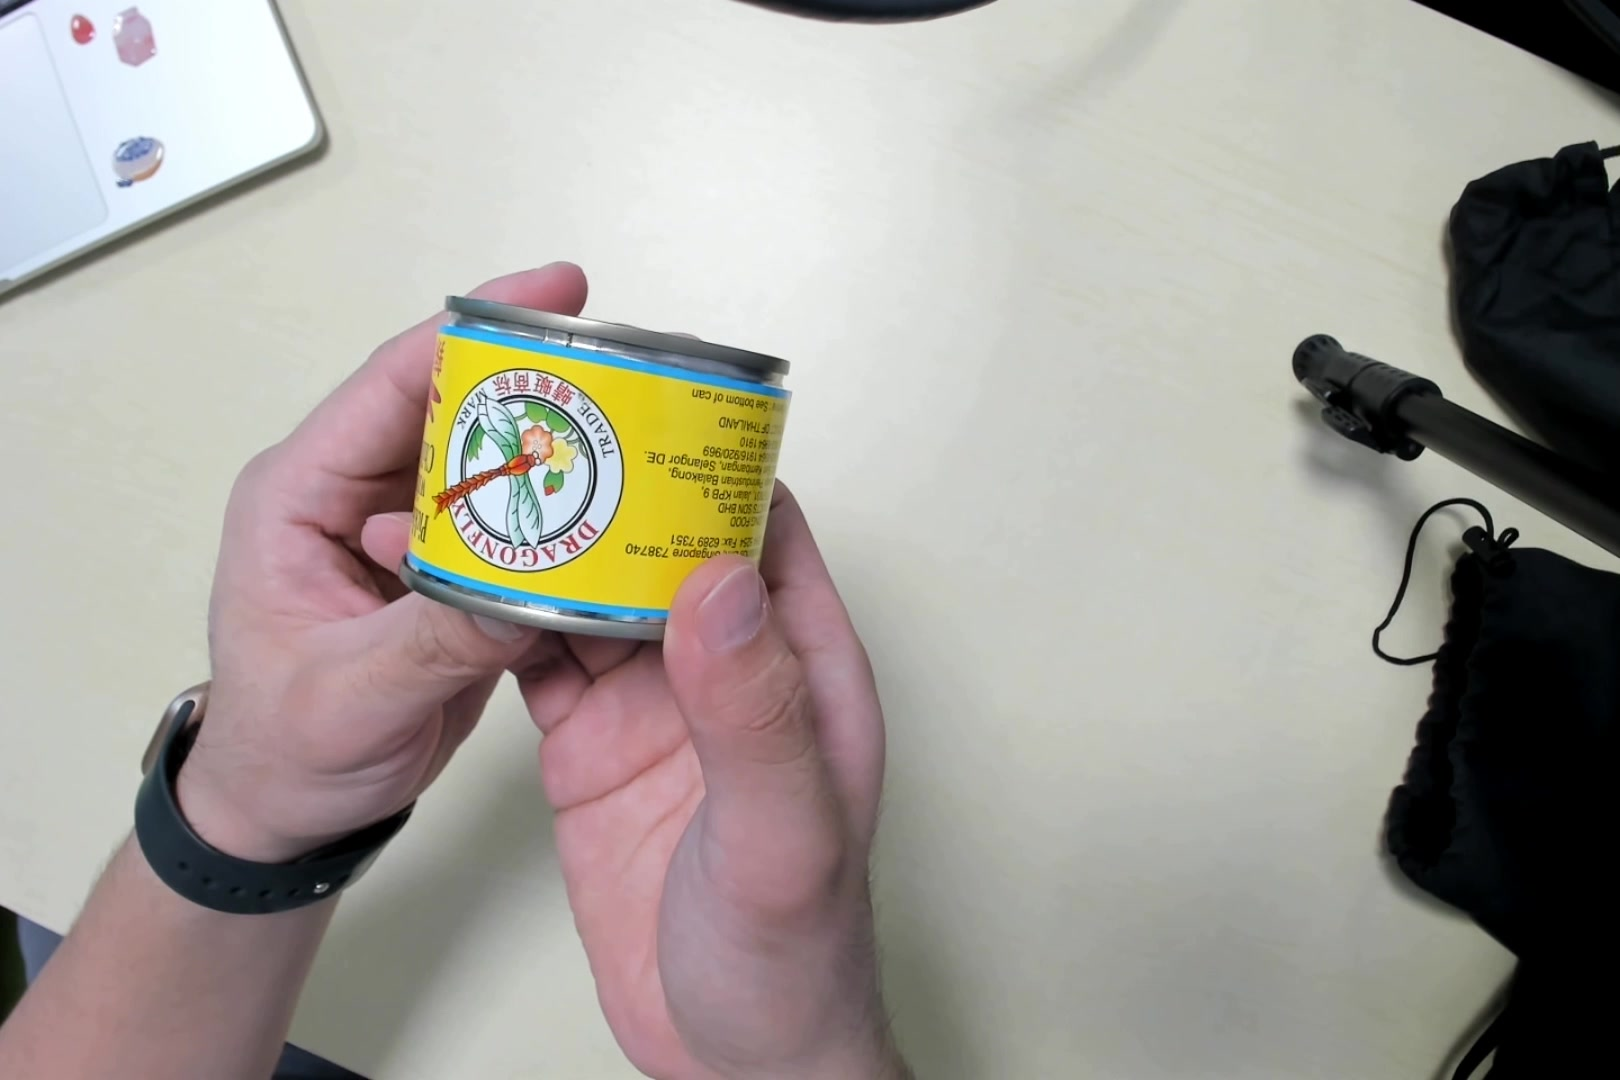CannedFruitsCocktail_0-99g_Halal_NonHealthy: (411, 303, 782, 641)
